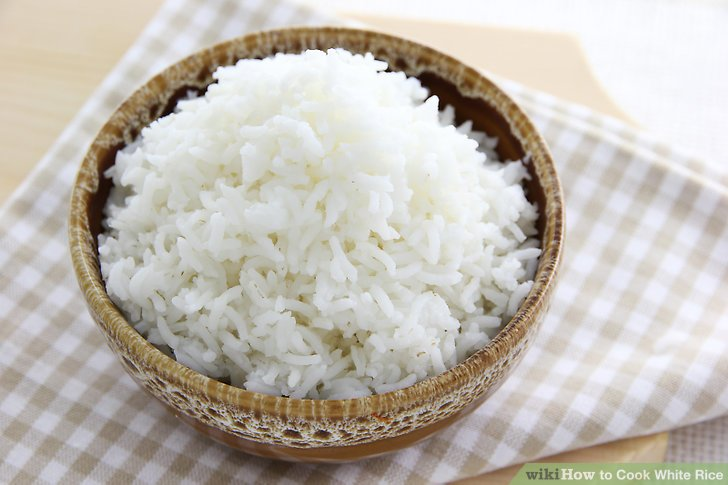rice: (97, 47, 544, 403)
